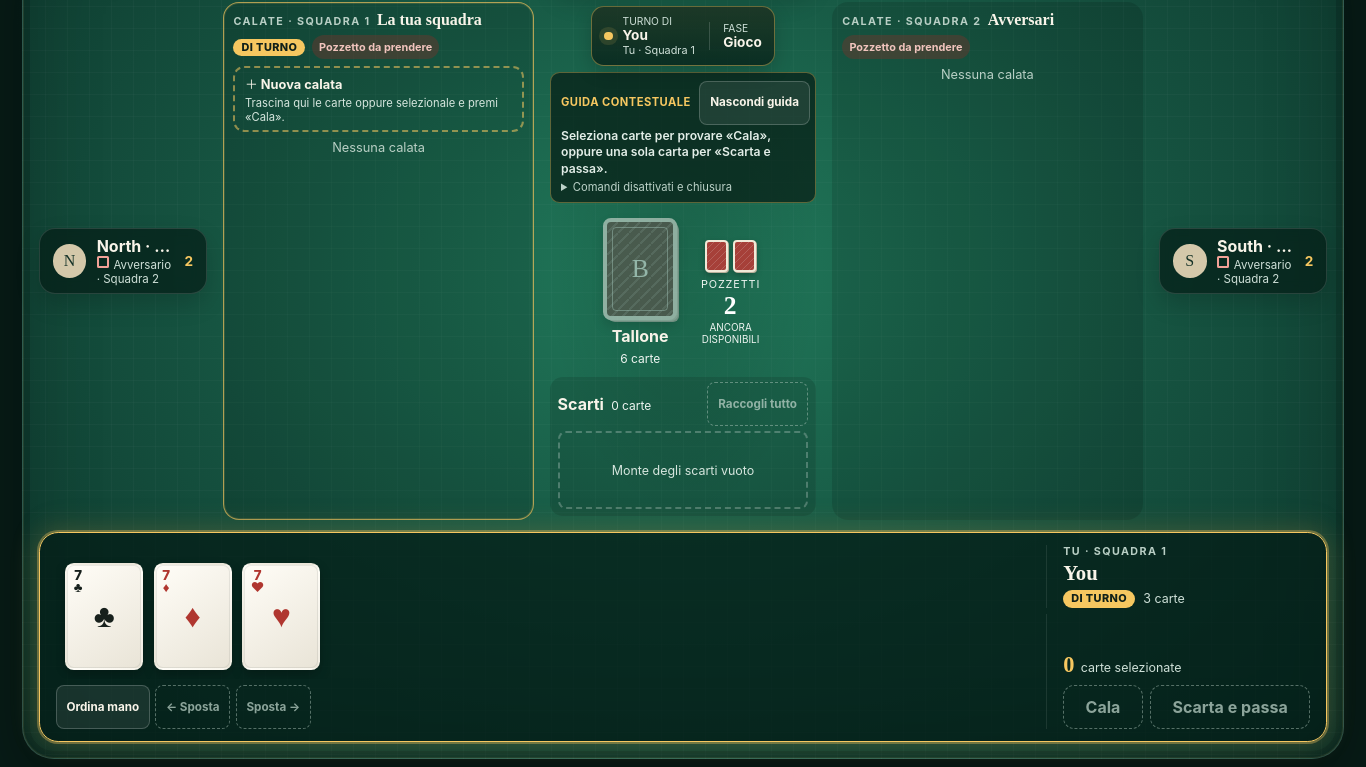
it: GameTable contextual coach (M36) › explains the human pozzetto from committed feedback
(page scrolled)
Click the button "7 ♣ ♣" at (104, 616), box x1=65 y1=563 x2=143 y2=670
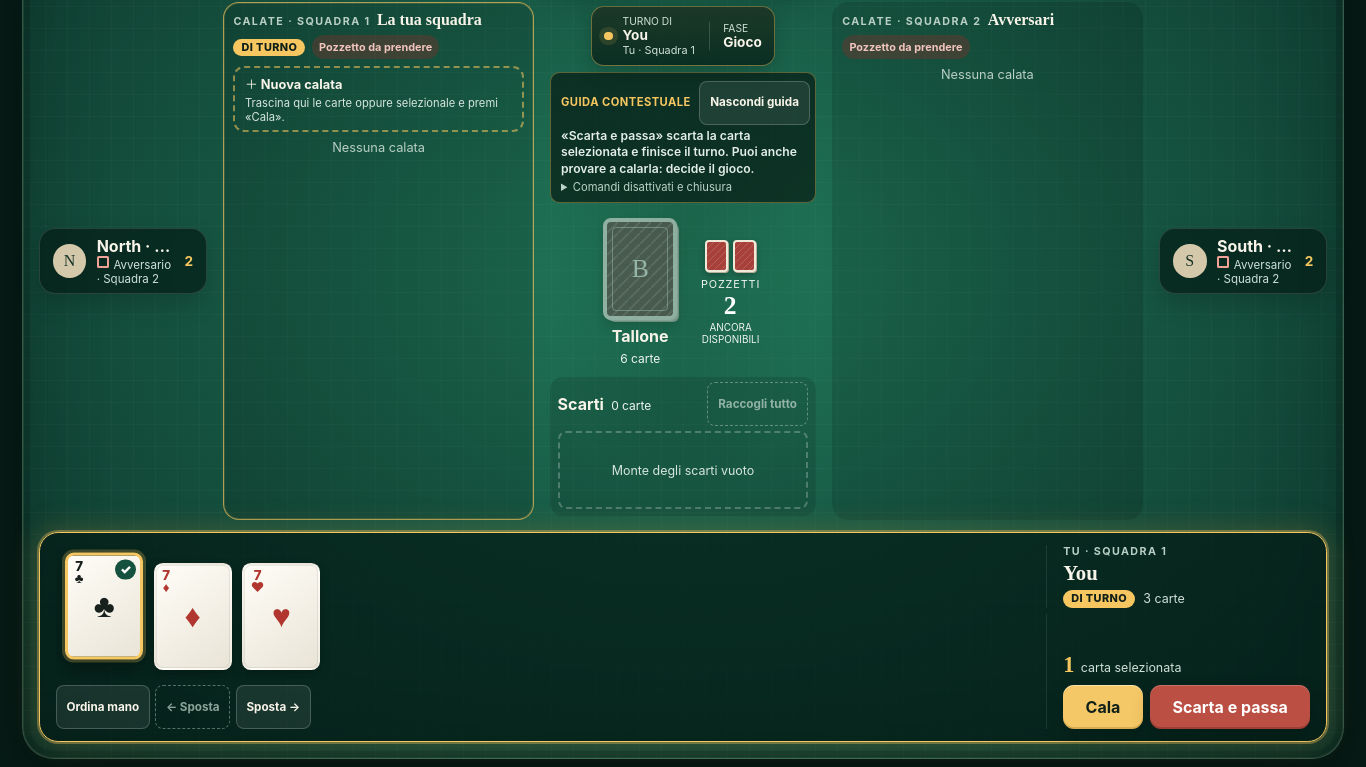
Click the button "7 ♦ ♦" at (193, 616), box x1=154 y1=563 x2=232 y2=670
(page scrolled)
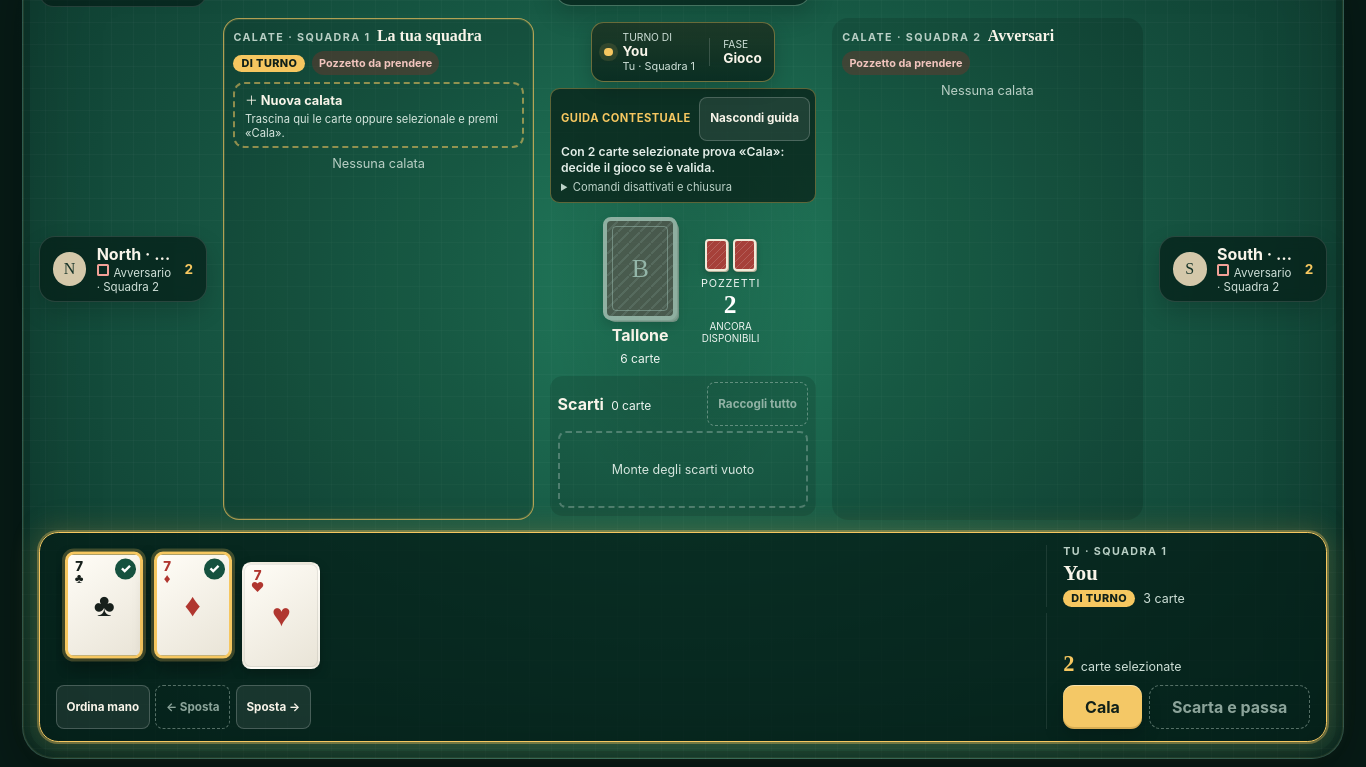
Click the button "7 ♥ ♥" at (281, 616), box x1=242 y1=562 x2=320 y2=669
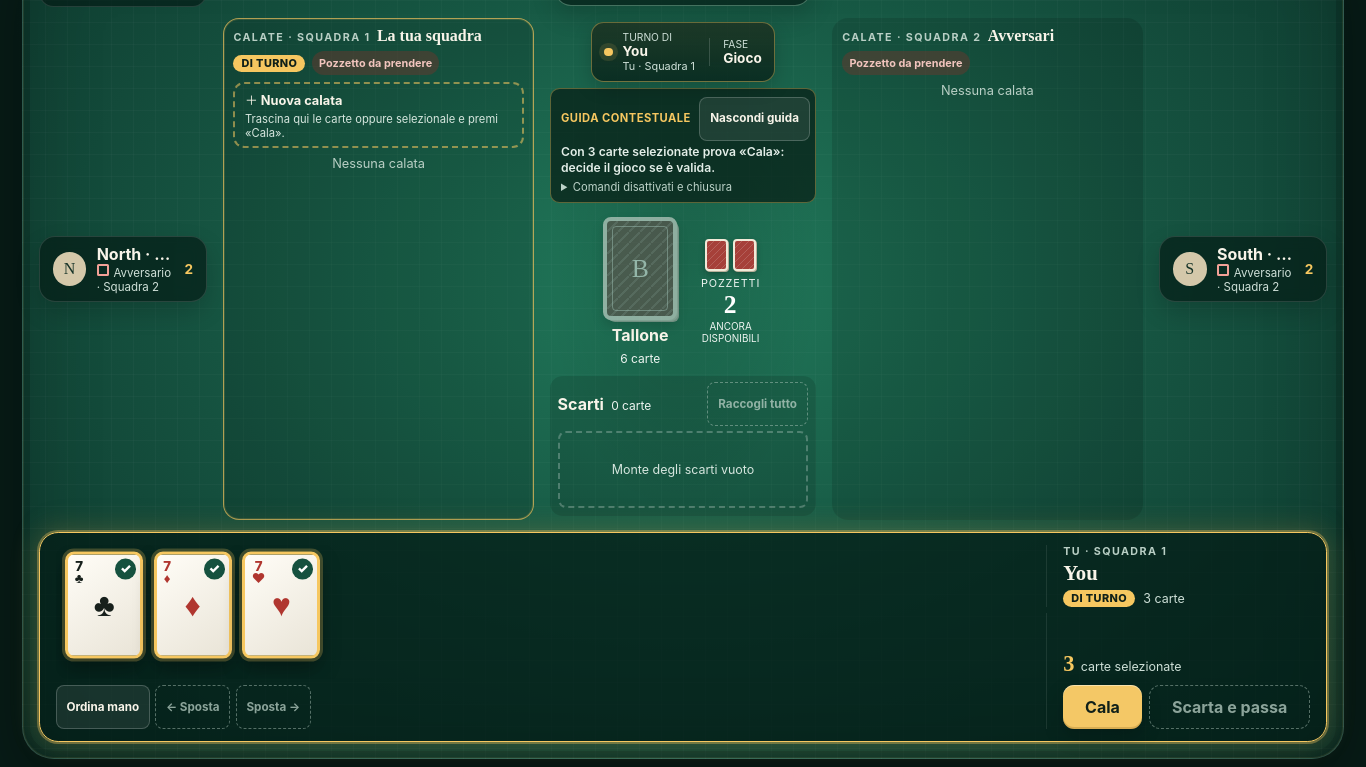
Click the button "Cala" at (1103, 707), box x1=1063 y1=685 x2=1142 y2=729
(page scrolled)
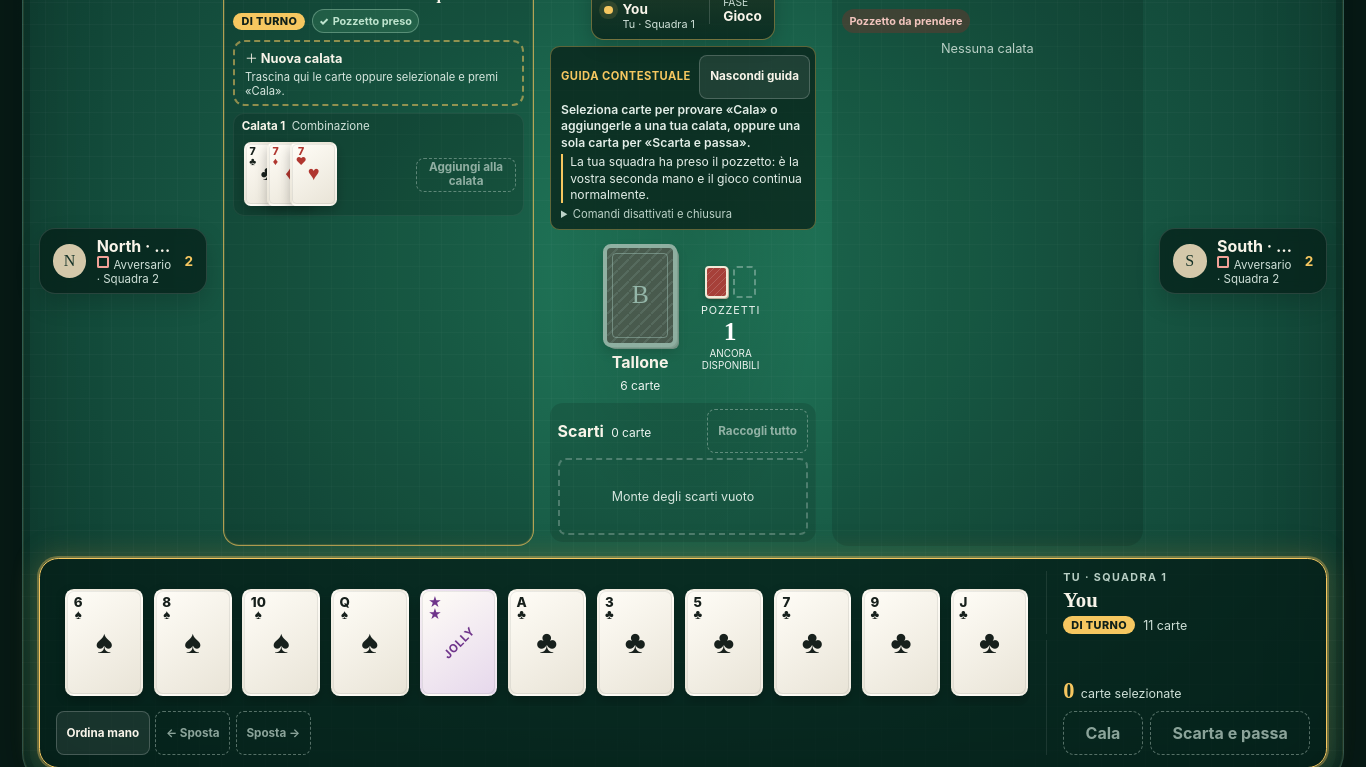
Expected: the element "Guida contestuale" shows "La tua squadra ha preso il pozzetto", x1=570 y1=154 x2=802 y2=202
